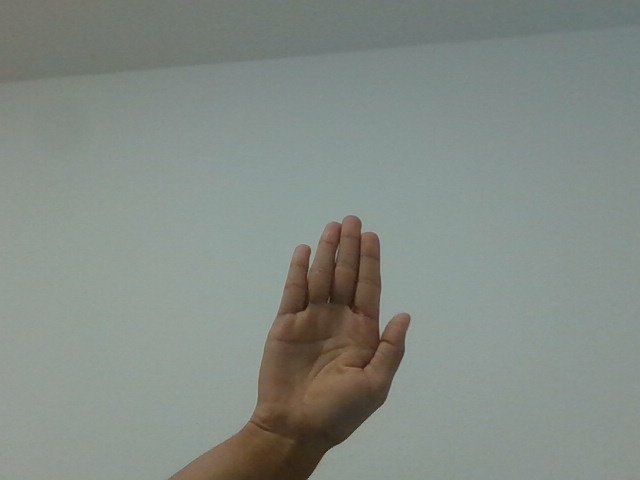Palm: (226, 201, 432, 453)
